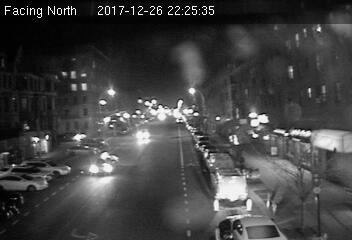car: (89, 153, 120, 175), (134, 127, 151, 141)
truck: (210, 167, 250, 203)
